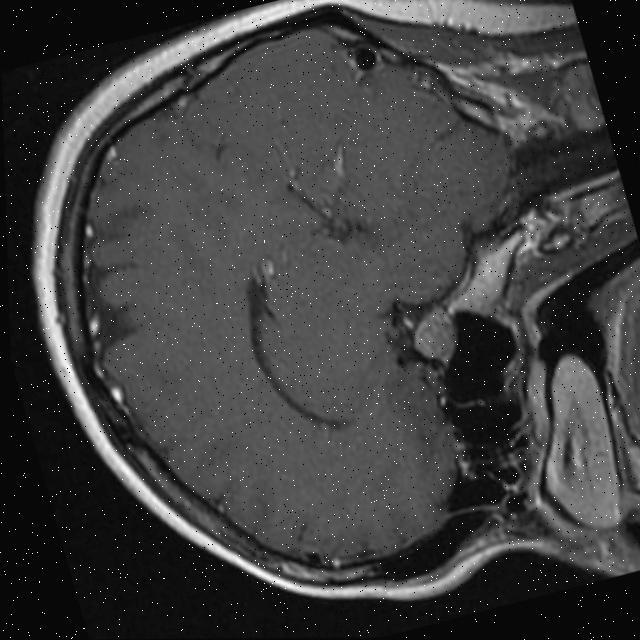Pituitary: (404, 303, 465, 371)
